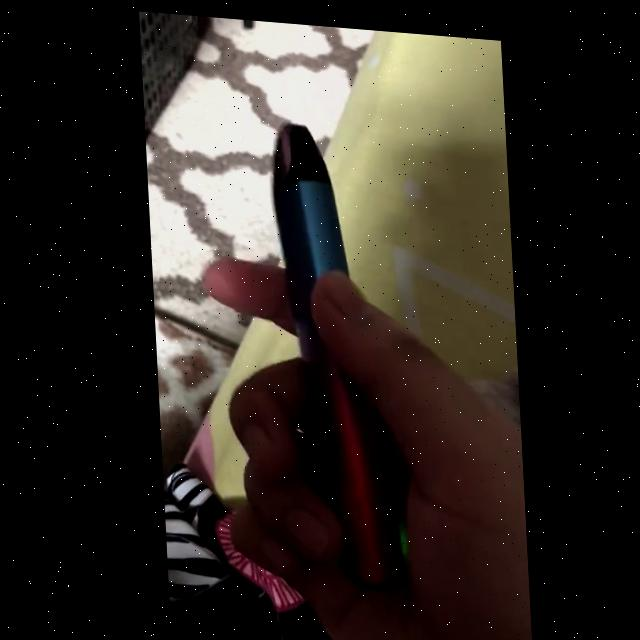vape: (266, 114, 405, 587)
